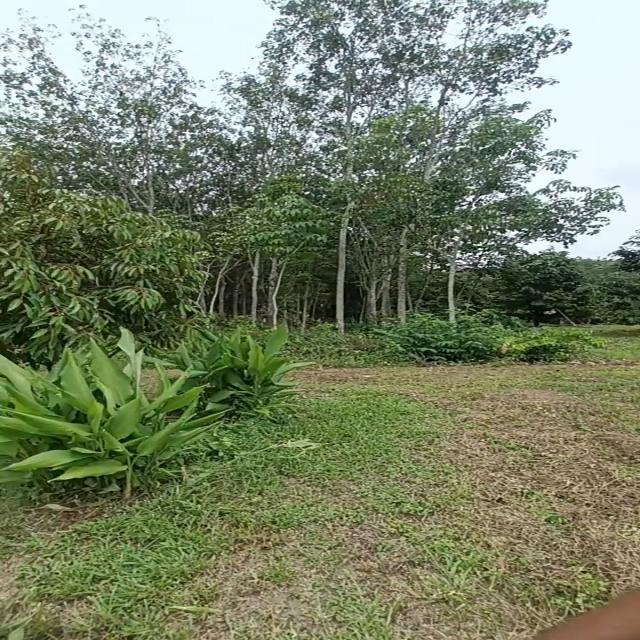Tree: (0, 112, 179, 342)
